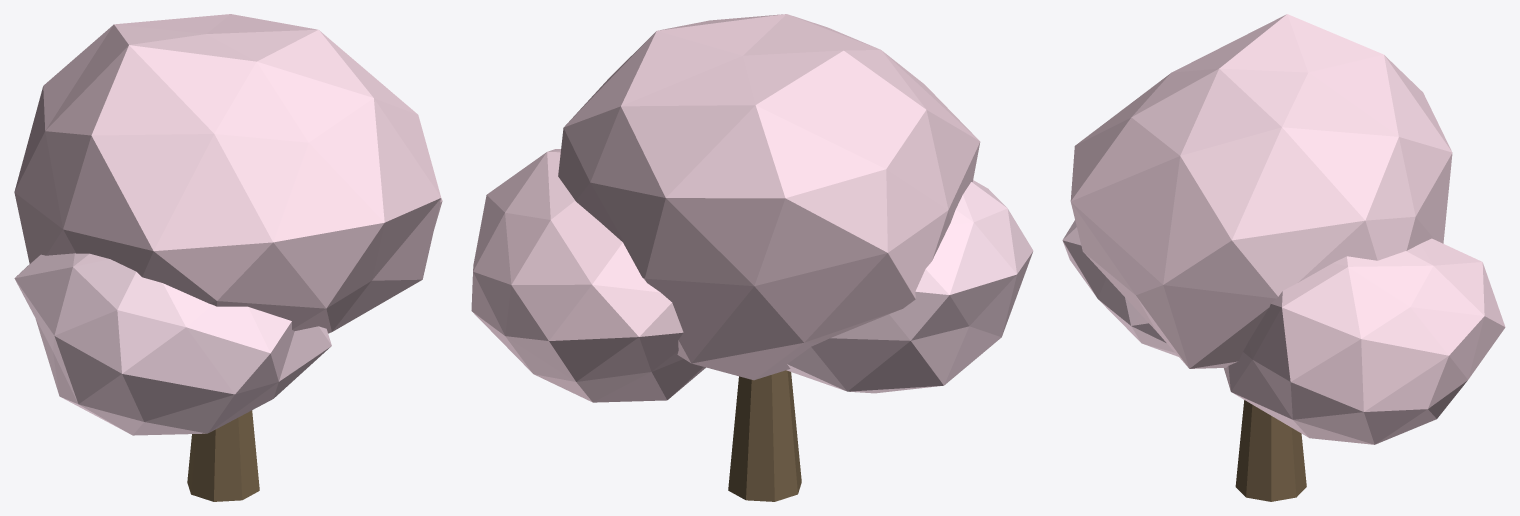
3 views of the same model, side by side, from view 1: azimuth 30°, elevation 25°; view 2: azimuth 150°, elevation 25°; view 3: azimuth 270°, elevation 25° (orthographic). The views are drawn at different scales.
Parts seen in each view (by area): view 1: node (×3); view 2: node (×4); view 3: node (×4).
Part boxes in pixels (x1=…): node (×3): x1=14, y1=14, x2=441, y2=501; node (×4): x1=471, y1=14, x2=1033, y2=501; node (×4): x1=1062, y1=14, x2=1505, y2=501.
Size of the model in its own units: 1.73 by 1.69 by 1.57.
